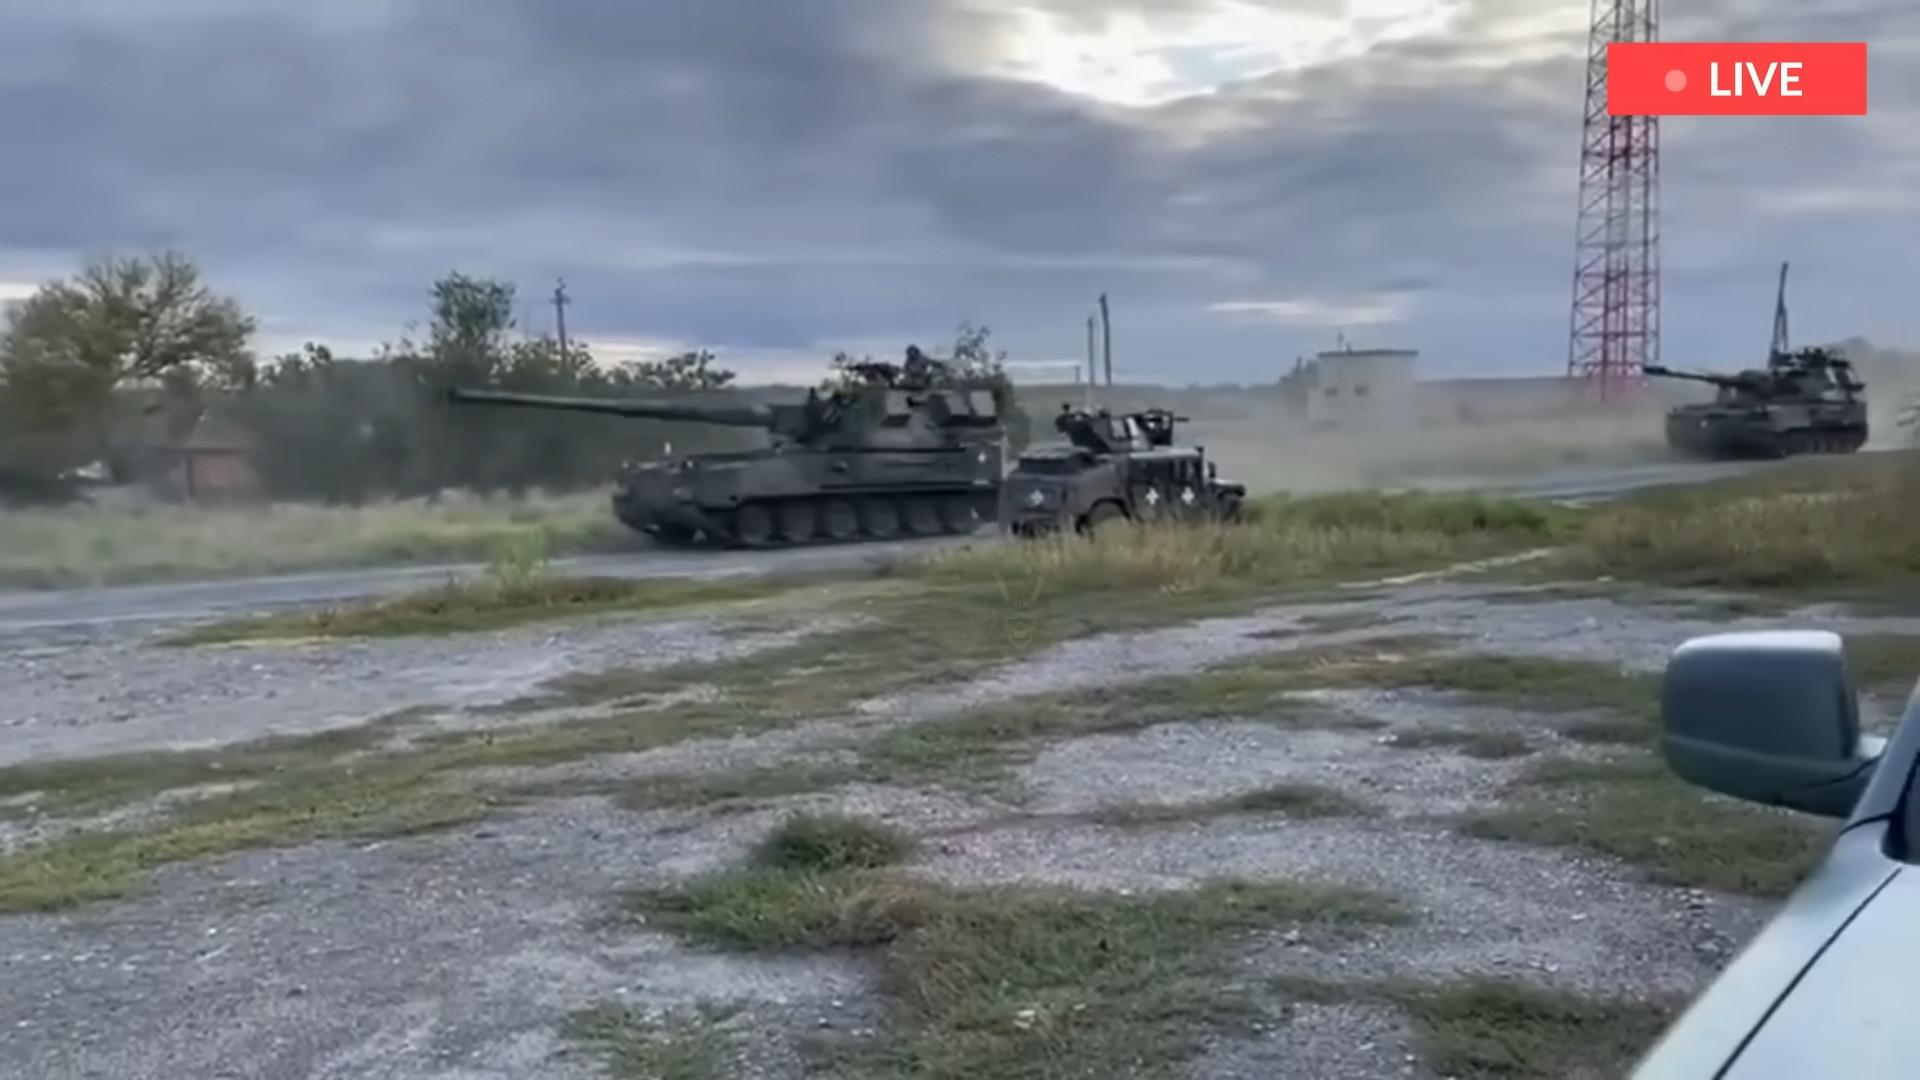tank: (448, 363, 1006, 549), (1644, 345, 1871, 460)
